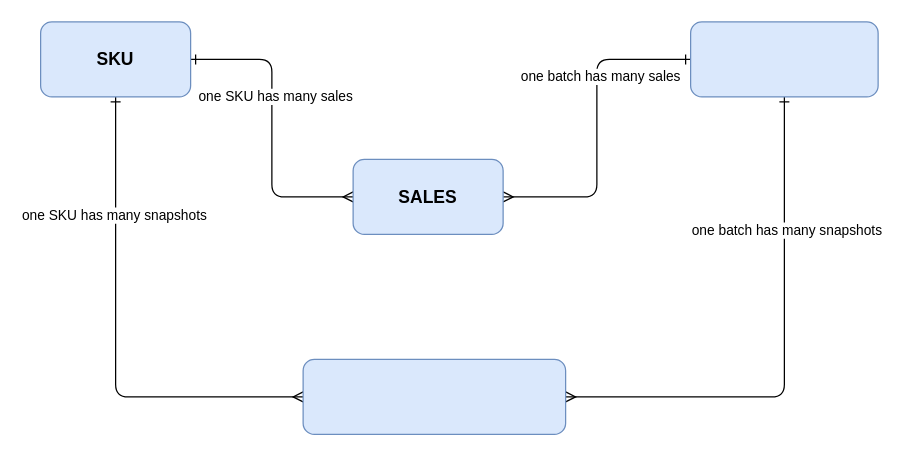
The diagram is 903 pixels wide and 456 high, and some of its shapes have lost their labels. The centre of each missing label's shape, as x and y in pixels:
"INVENTORY_SNAPSHOTS" goes at (434,396).
"UPLOAD_BATCHES" goes at (783,59).
